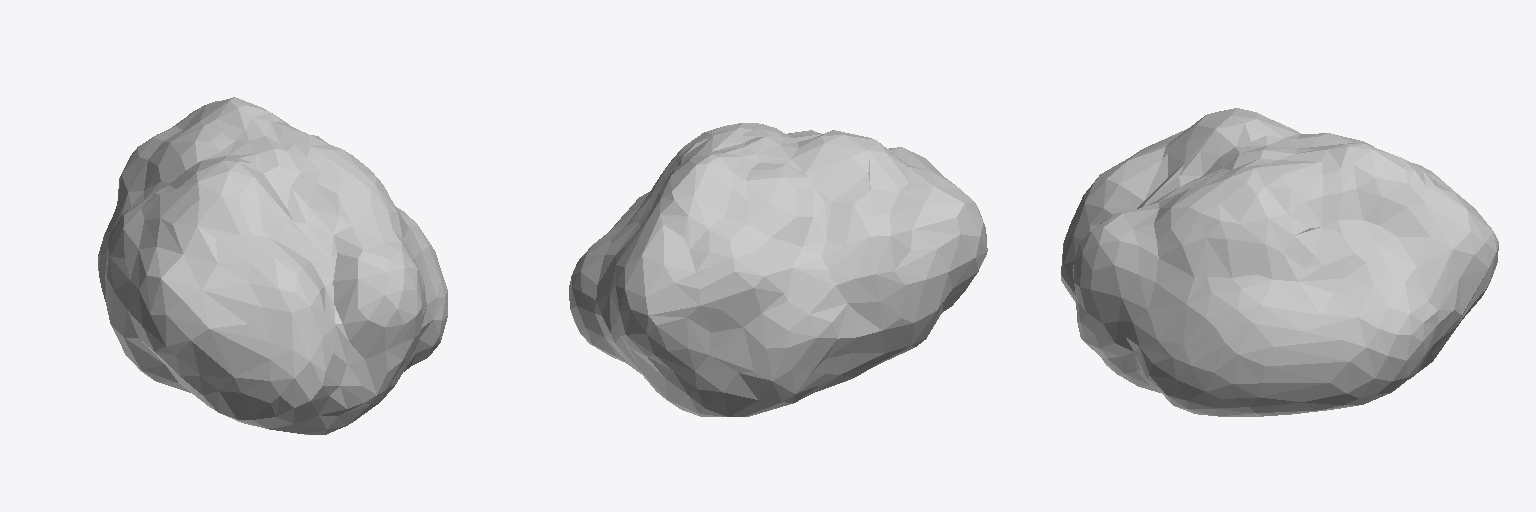
File: rocher1.obj
3 views of the same model, side by side, from view 1: azimuth 30°, elevation 25°; view 2: azimuth 150°, elevation 25°; view 3: azimuth 270°, elevation 25° (orthographic).
Parts seen in each view (by area): view 1: rocher1; view 2: rocher1; view 3: rocher1.
Part boxes in pixels (bbox=[...]): rocher1: bbox=[98, 97, 447, 434]; rocher1: bbox=[569, 123, 987, 416]; rocher1: bbox=[1061, 108, 1498, 416].
Bounding box in the file's own units: 1 × 0.7174 × 1.18.